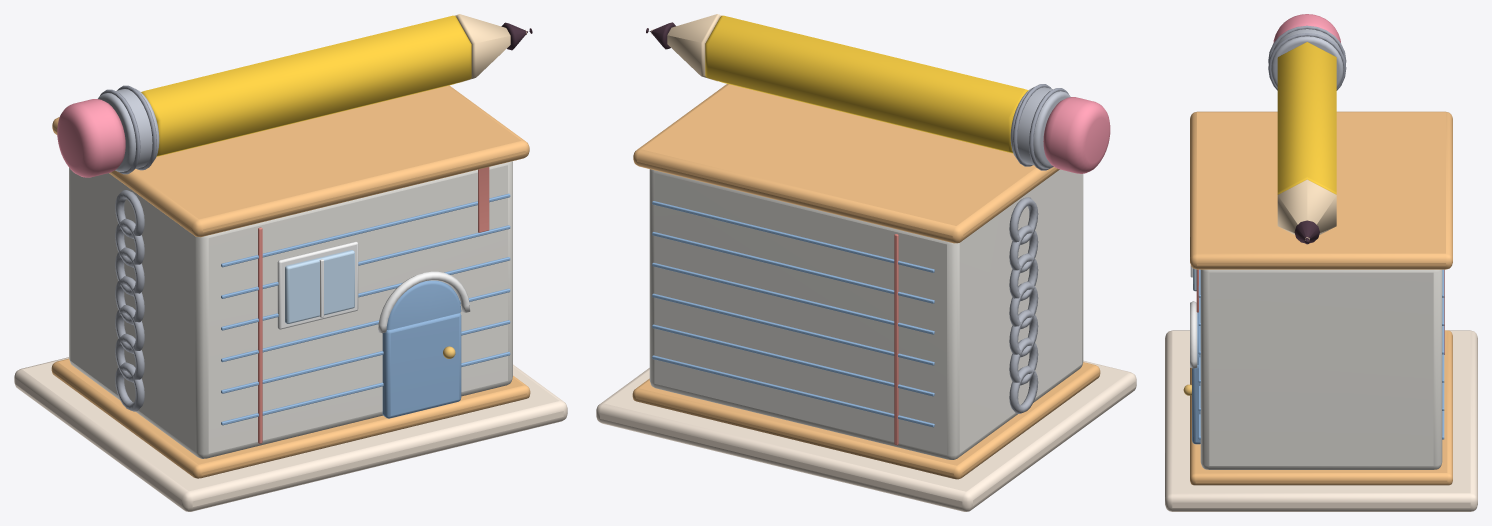
Rendered from studio.glb.
3 renders of one model, left to right at view 1: azimuth 30°, elevation 25°; view 2: azimuth 150°, elevation 25°; view 3: azimuth 270°, elevation 25°, orthographic. The views are drawn at different scales.
Visible parts, largest first — view 1: pages, cover_top, wood, base, cover_bottom, door, eraser, window, door_top, ferrule, tip, window_frame (+16 smaller); view 2: pages, cover_top, wood, base, cover_bottom, eraser, ferrule, tip, rule_-1_0, rule_-1_1, rule_-1_4, rule_-1_2 (+10 smaller); view 3: pages, cover_top, base, wood, cover_bottom, tip, ferrule, eraser, door, ferrule_ridge_0.06, door_arch, lead (+1 smaller).
Part boxes in pixels (box(x1,y1,x2,y2)): pages: box(69, 161, 512, 458); cover_top: box(52, 85, 529, 237); wood: box(141, 15, 471, 156); base: box(14, 357, 567, 511); cover_bottom: box(51, 358, 530, 478); door: box(382, 313, 461, 418); eraser: box(57, 99, 125, 177); window: box(285, 250, 354, 323); door_top: box(386, 280, 461, 330); ferrule: box(98, 89, 159, 171); tip: box(455, 14, 526, 82); window_frame: box(277, 241, 358, 329); pages: box(649, 169, 1083, 459); cover_top: box(633, 84, 1059, 243); wood: box(705, 15, 1028, 153); base: box(596, 360, 1136, 511); cover_bottom: box(632, 362, 1100, 479); eraser: box(1043, 97, 1110, 173); ferrule: box(1010, 87, 1070, 168); tip: box(651, 14, 721, 81); rule_-1_0: box(652, 355, 934, 427); rule_-1_1: box(652, 324, 934, 396); rule_-1_4: box(652, 231, 934, 303); rule_-1_2: box(652, 293, 934, 365); pages: box(1200, 269, 1442, 469); cover_top: box(1190, 111, 1452, 269); base: box(1165, 330, 1477, 511); wood: box(1277, 42, 1336, 194); cover_bottom: box(1190, 330, 1452, 485); tip: box(1277, 179, 1336, 240); ferrule: box(1271, 29, 1343, 88); eraser: box(1273, 14, 1340, 42); door: box(1192, 365, 1200, 444); ferrule_ridge_0.06: box(1268, 33, 1346, 90); door_arch: box(1190, 301, 1197, 368); lead: box(1294, 220, 1319, 244).
Bounding box in the file's own units: 3.35 × 2.53 × 2.2.
